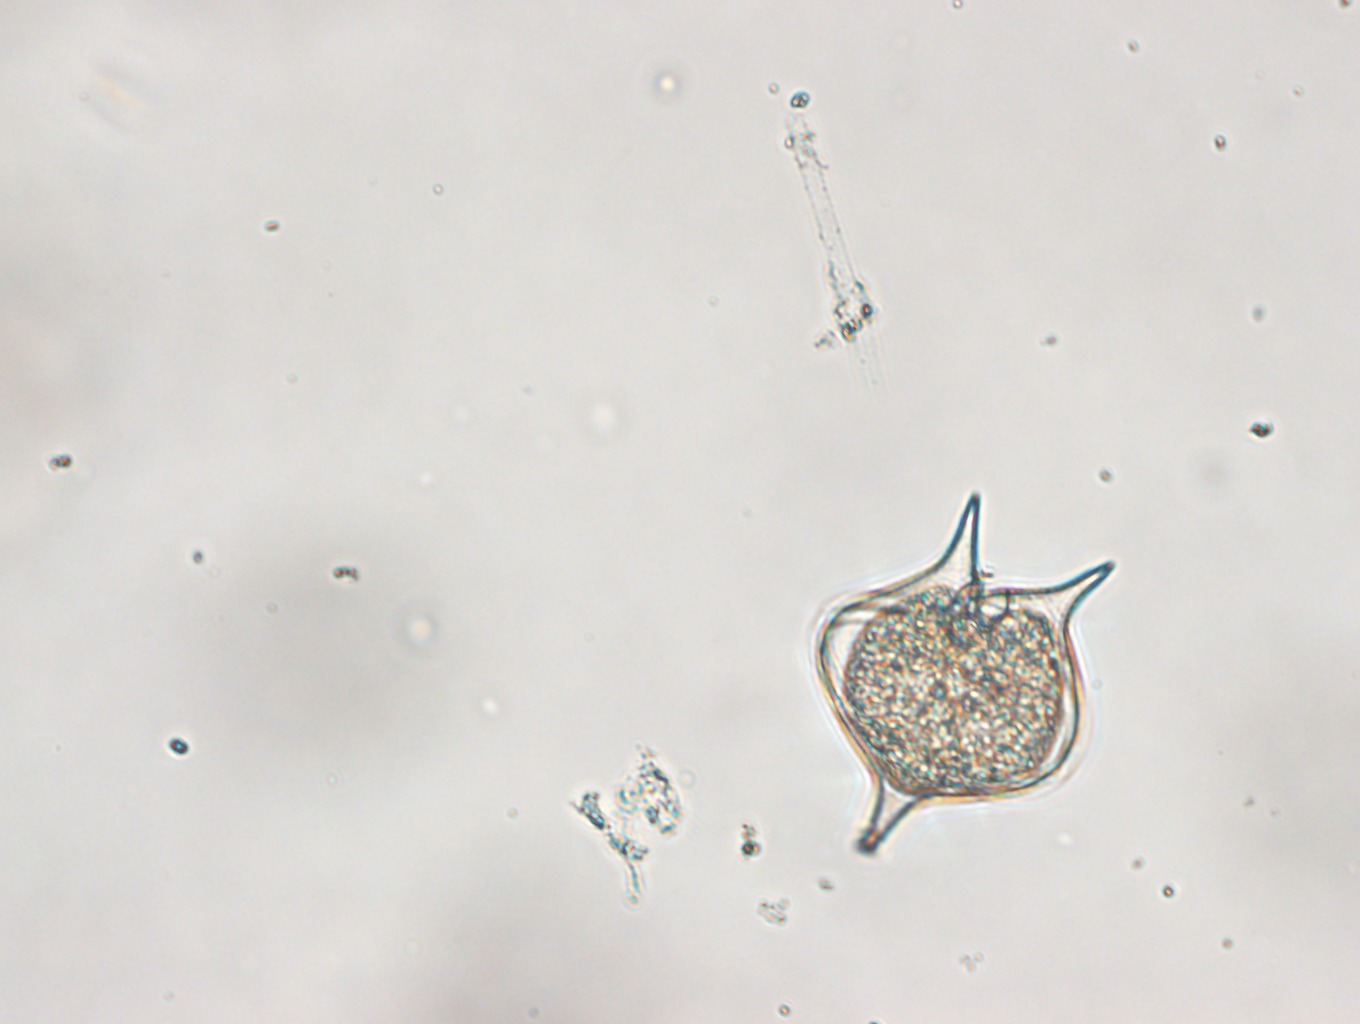protoperidinium: (788, 494, 1119, 853)
